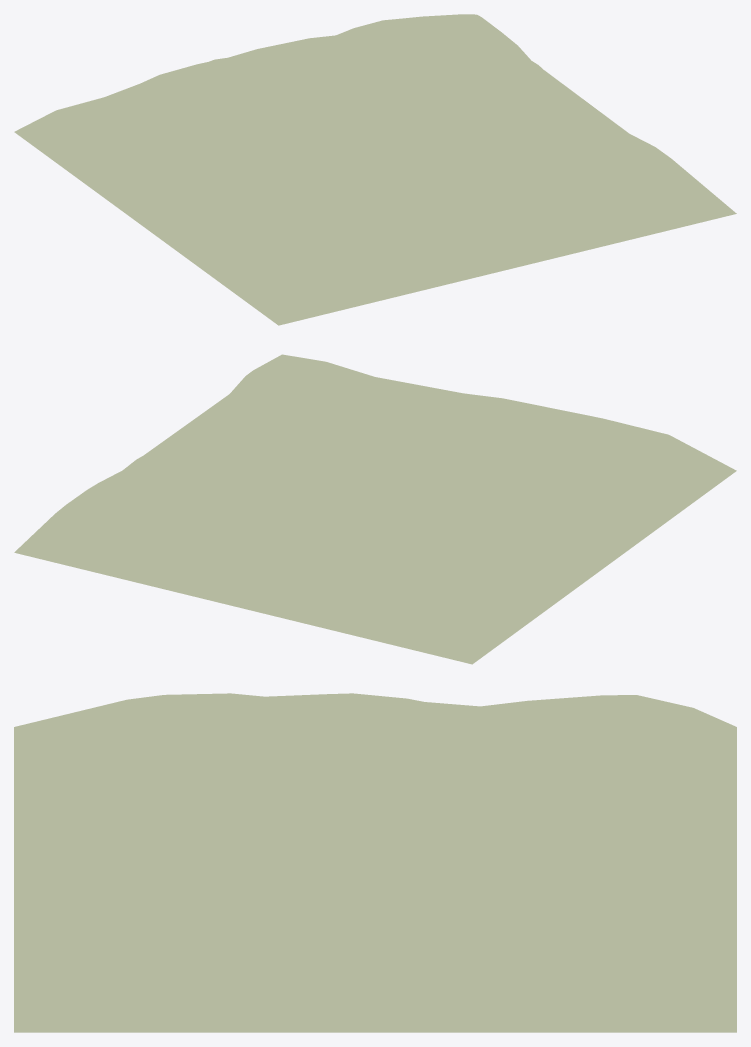
File: stone_tile.dae
3 renders of one model, top to bottom at view 1: azimuth 30°, elevation 25°; view 2: azimuth 150°, elevation 25°; view 3: azimuth 270°, elevation 25°, orthographic. The views are drawn at different scales.
Visible parts, largest first — view 1: grid1-0; view 2: grid1-0; view 3: grid1-0.
Part boxes in pixels (box(x1,y1,x2,y2)): grid1-0: box(14, 14, 736, 325); grid1-0: box(14, 354, 736, 664); grid1-0: box(14, 693, 736, 1032).
Bounding box in the file's own units: 5 × 0.3202 × 5.
